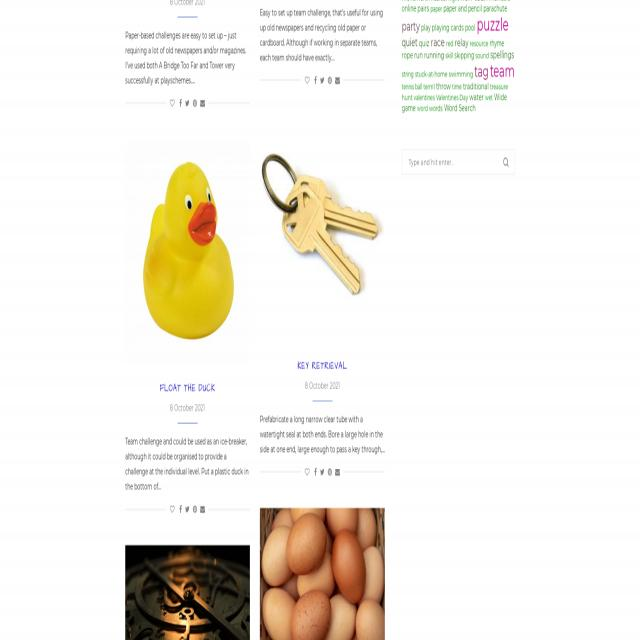button: (125, 138, 250, 364), (260, 116, 385, 341), (260, 508, 385, 640), (125, 545, 251, 640), (198, 98, 206, 110), (169, 97, 176, 109), (199, 503, 206, 515), (184, 98, 191, 109), (326, 466, 333, 477), (334, 467, 341, 478), (334, 75, 341, 86), (184, 503, 190, 515), (192, 503, 198, 515), (192, 98, 198, 109), (319, 466, 325, 477), (304, 466, 310, 477), (169, 504, 175, 515), (304, 75, 310, 86), (178, 97, 183, 109), (178, 503, 183, 515), (313, 466, 318, 477), (313, 75, 318, 86), (319, 76, 325, 85), (327, 76, 332, 86)
field: (401, 150, 515, 174)
